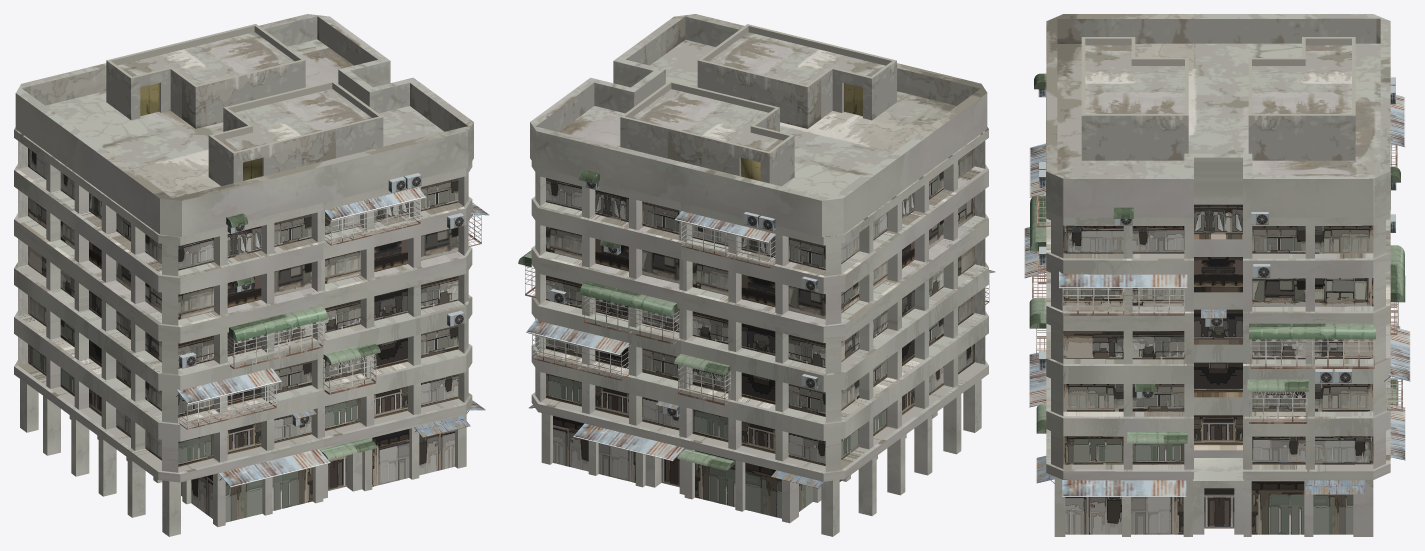
The model's file is buildings2.glb.
3 views of the same model, side by side, from view 1: azimuth 30°, elevation 25°; view 2: azimuth 150°, elevation 25°; view 3: azimuth 270°, elevation 25° (orthographic). The views are drawn at different scales.
Parts seen in each view (by area): view 1: apartment_02_fine, polySurface3488, polySurface3490, polySurface3489, pPlane201_2, group26_2, pPlane197_2, pPlane200_2, pCube116_2, pPlane199_2, pCube121_2; view 2: apartment_02_fine, polySurface3488, polySurface3489, polySurface3490, pPlane201, group26, pPlane197, pPlane200, pCube116, pCube121; view 3: apartment_02_fine, polySurface3488, polySurface3489, polySurface3490, group26_3, pPlane197_3, pPlane200_3, pCube116_3, pPlane201, group26, group26_2, pPlane197_2 (+7 smaller).
Boxes of the visible parts, x1,y1,x2,y2 form: apartment_02_fine: (14, 127, 472, 536); polySurface3488: (15, 14, 473, 236); polySurface3490: (106, 24, 305, 128); polySurface3489: (208, 80, 383, 186); pPlane201_2: (176, 368, 281, 429); group26_2: (227, 305, 327, 369); pPlane197_2: (324, 187, 425, 245); pPlane200_2: (218, 449, 330, 487); pCube116_2: (323, 342, 380, 394); pPlane199_2: (414, 415, 470, 437); pCube121_2: (320, 438, 376, 459); apartment_02_fine: (531, 127, 988, 536); polySurface3488: (530, 14, 987, 236); polySurface3489: (697, 24, 896, 128); polySurface3490: (620, 81, 794, 186); pPlane201: (526, 318, 630, 380); group26: (580, 281, 679, 344); pPlane197: (675, 211, 775, 268); pPlane200: (573, 423, 683, 461); pCube116: (674, 354, 730, 405); pCube121: (677, 449, 734, 470); apartment_02_fine: (1046, 196, 1390, 536); polySurface3488: (1046, 14, 1390, 217); polySurface3489: (1081, 37, 1188, 160); polySurface3490: (1248, 37, 1355, 160); group26_3: (1249, 323, 1375, 368); pPlane197_3: (1059, 271, 1187, 315); pPlane200_3: (1062, 480, 1186, 496); pCube116_3: (1247, 379, 1308, 423); pPlane201: (1384, 326, 1410, 410); group26: (1390, 245, 1404, 334); group26_2: (1030, 196, 1046, 283); pPlane197_2: (1029, 143, 1050, 227).
Size of the model in its own units: 4.57 by 4.74 by 4.32.
Materials: 53 (53 with a texture image).
